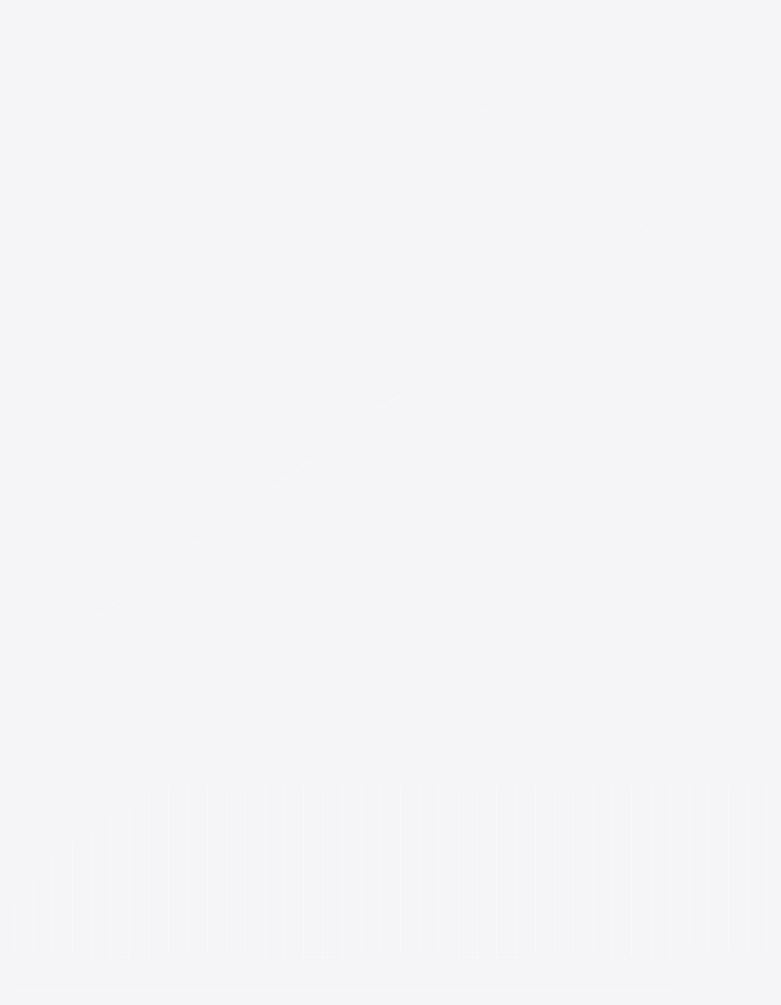
The model's file is SM_RiyadhNights_Far_Streets_1.fbx.
The picture shows the model from 3 angles, top to bottom: view 1: azimuth 30°, elevation 25°; view 2: azimuth 150°, elevation 25°; view 3: azimuth 270°, elevation 25°; orthographic projection. The views are drawn at different scales.
Visible parts, largest first — view 1: SM_RiyadhNights_Far_Streets_1; view 2: SM_RiyadhNights_Far_Streets_1; view 3: SM_RiyadhNights_Far_Streets_1.
Part boxes in pixels (bbox=[...]): SM_RiyadhNights_Far_Streets_1: bbox=[14, 14, 765, 304]; SM_RiyadhNights_Far_Streets_1: bbox=[14, 334, 766, 756]; SM_RiyadhNights_Far_Streets_1: bbox=[14, 786, 766, 990].
Size of the model in its own units: 450140 by 1526 by 702280.
